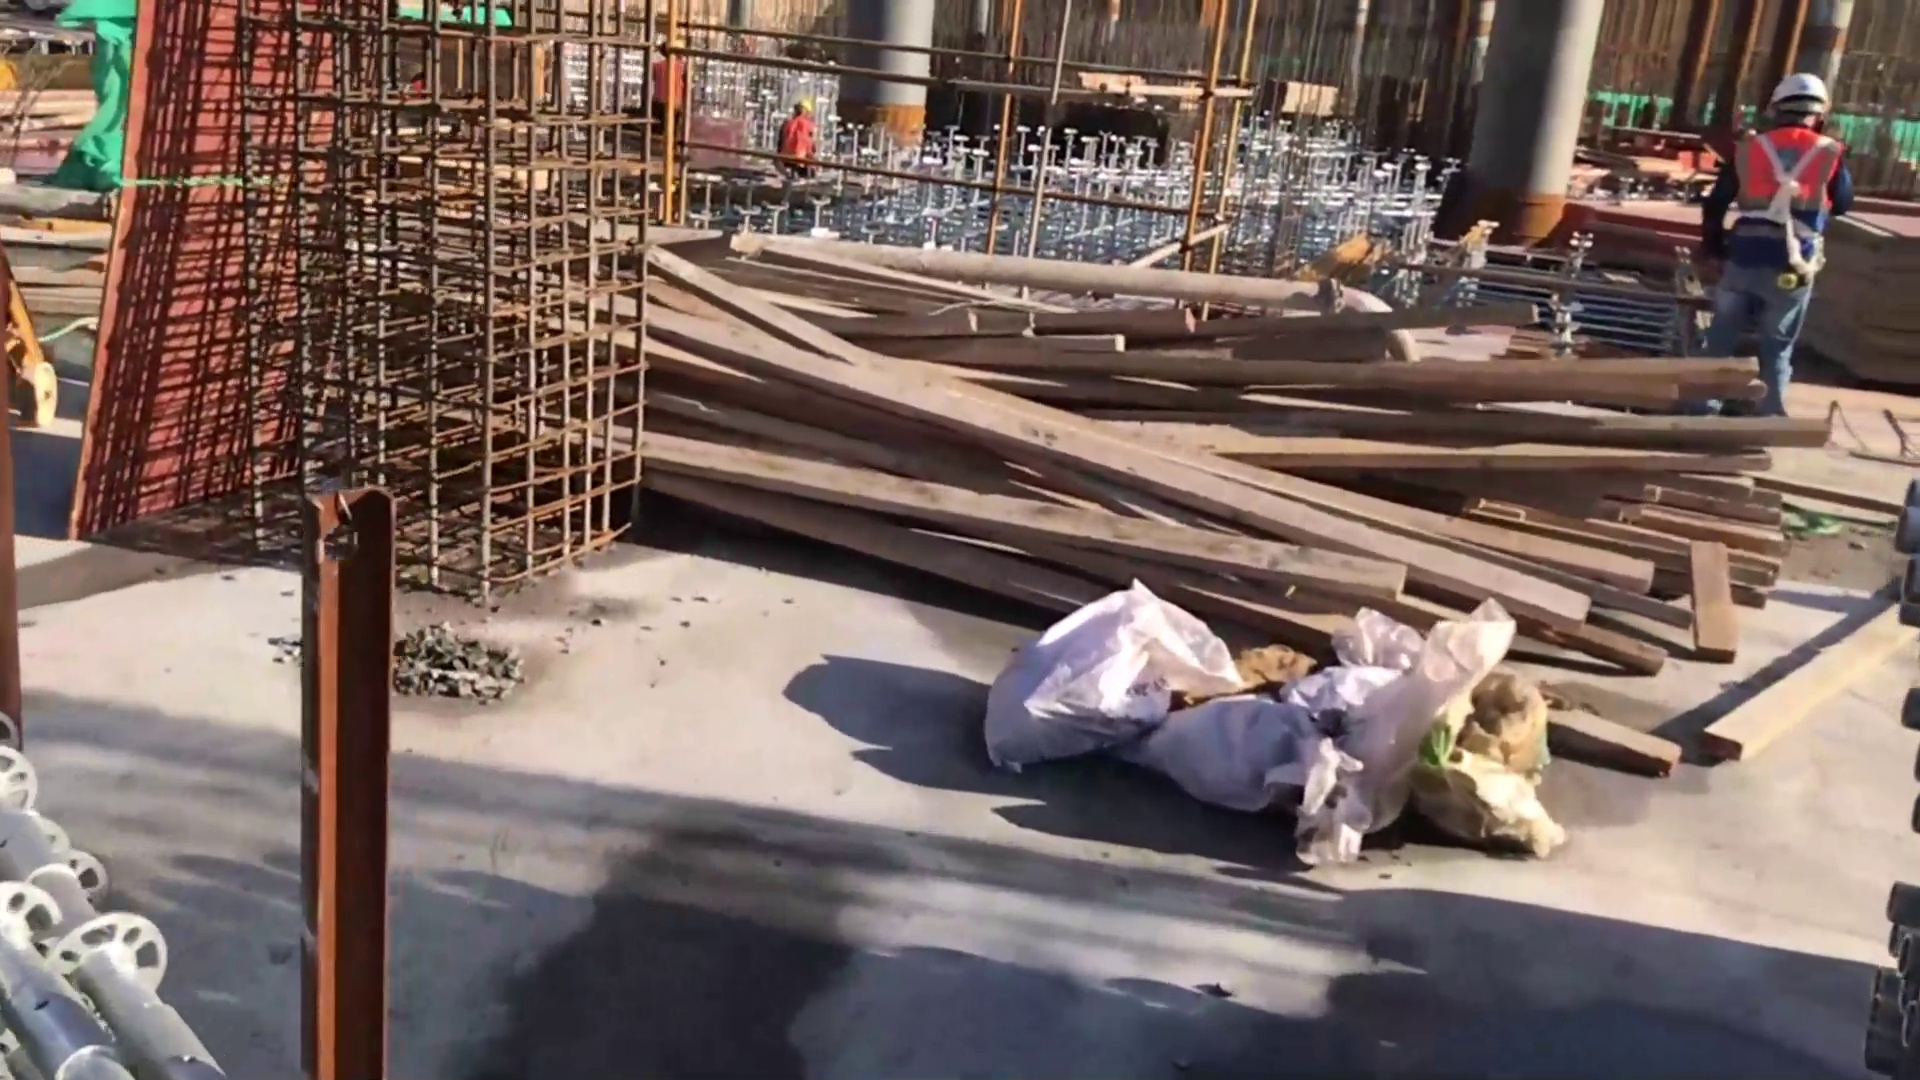helmet: (1776, 70, 1831, 108)
person: (1706, 69, 1856, 422), (651, 35, 696, 143), (775, 100, 819, 176)
vest: (1714, 123, 1847, 277)
wood: (665, 251, 1755, 742)
